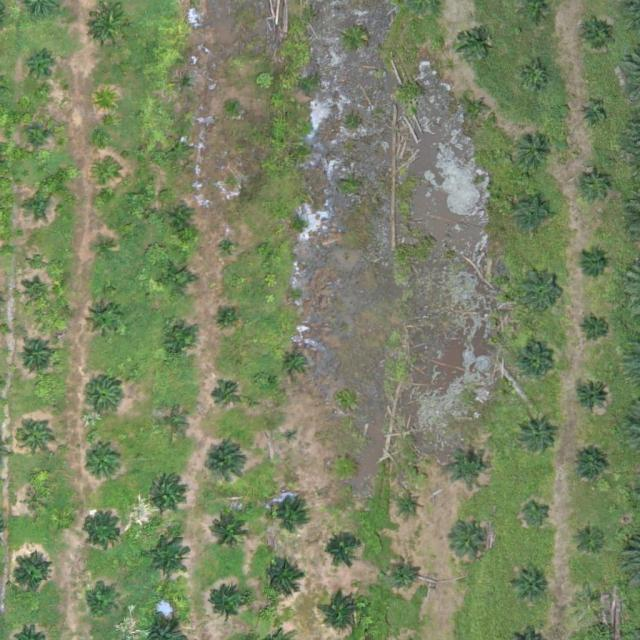Small: (205, 586, 252, 634), (144, 535, 191, 583), (202, 443, 249, 491), (207, 507, 254, 555), (519, 267, 566, 314), (455, 519, 495, 559), (90, 7, 130, 46), (448, 447, 488, 486), (270, 492, 310, 531), (11, 555, 50, 595), (324, 530, 363, 570), (263, 559, 303, 598), (149, 475, 188, 515), (160, 322, 199, 362), (17, 417, 56, 457), (517, 133, 556, 173), (516, 194, 555, 234), (517, 415, 556, 455), (510, 564, 549, 604), (571, 447, 610, 487), (573, 377, 612, 417), (159, 260, 198, 300), (324, 593, 363, 632), (16, 337, 55, 376), (85, 512, 124, 551), (85, 302, 124, 341), (84, 377, 123, 416), (86, 446, 125, 485), (517, 346, 556, 385), (20, 191, 51, 223), (581, 169, 612, 201), (575, 521, 606, 553), (575, 581, 606, 613), (522, 497, 553, 529), (578, 247, 609, 279), (211, 381, 242, 413), (22, 53, 53, 84), (457, 27, 488, 58), (86, 586, 117, 617), (521, 62, 552, 93), (388, 558, 419, 589), (158, 409, 189, 440), (581, 315, 612, 346), (583, 21, 614, 52), (282, 348, 313, 379), (20, 280, 51, 311), (23, 125, 54, 156), (399, 494, 423, 518), (467, 98, 491, 122), (94, 89, 118, 113), (582, 104, 606, 128), (334, 457, 358, 481), (218, 237, 242, 261), (170, 207, 194, 231), (95, 165, 119, 189), (95, 240, 119, 264), (168, 139, 192, 163), (26, 490, 49, 514), (174, 72, 197, 96), (219, 309, 235, 325), (227, 97, 242, 113), (284, 428, 300, 443)
